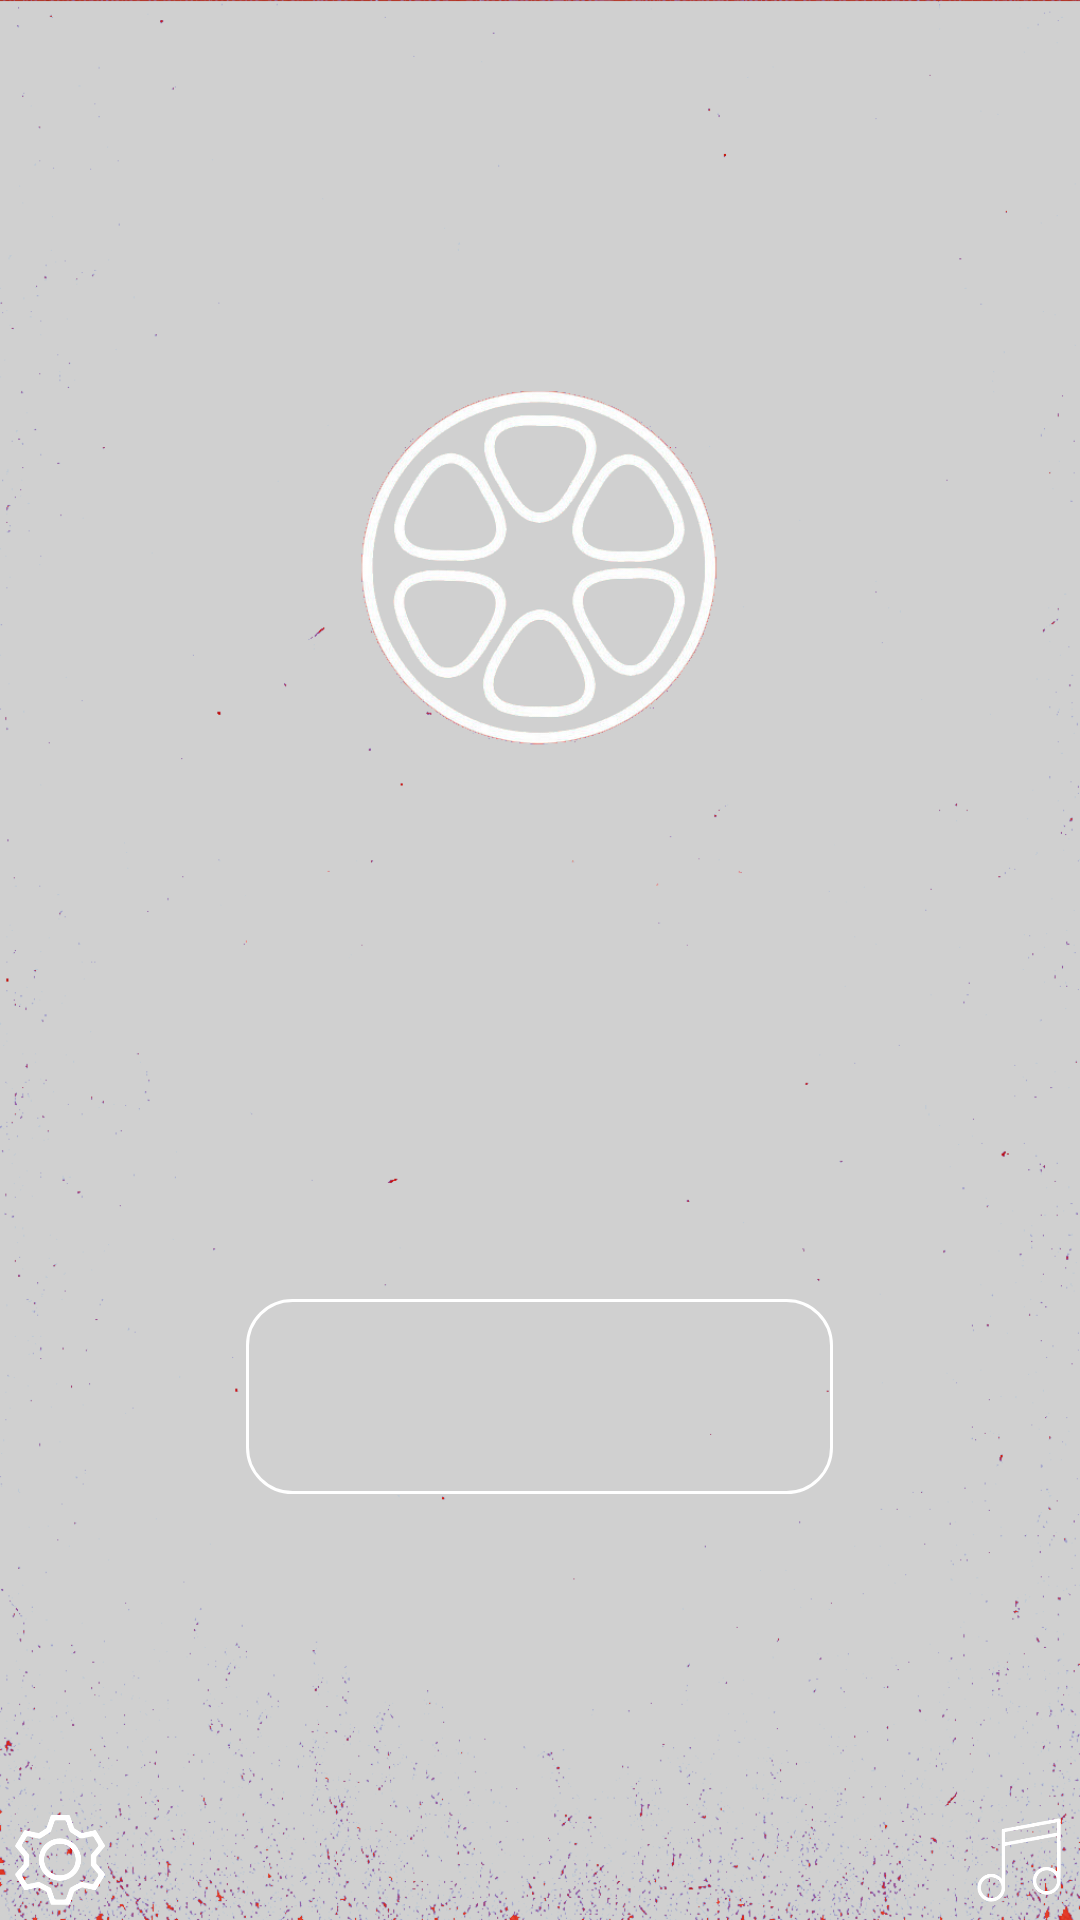

Icons on this 1080 × 1920 Android screen, each with the point to tap as (x=x, y=y):
music: (x=1020, y=1860)
setting: (x=60, y=1860)
